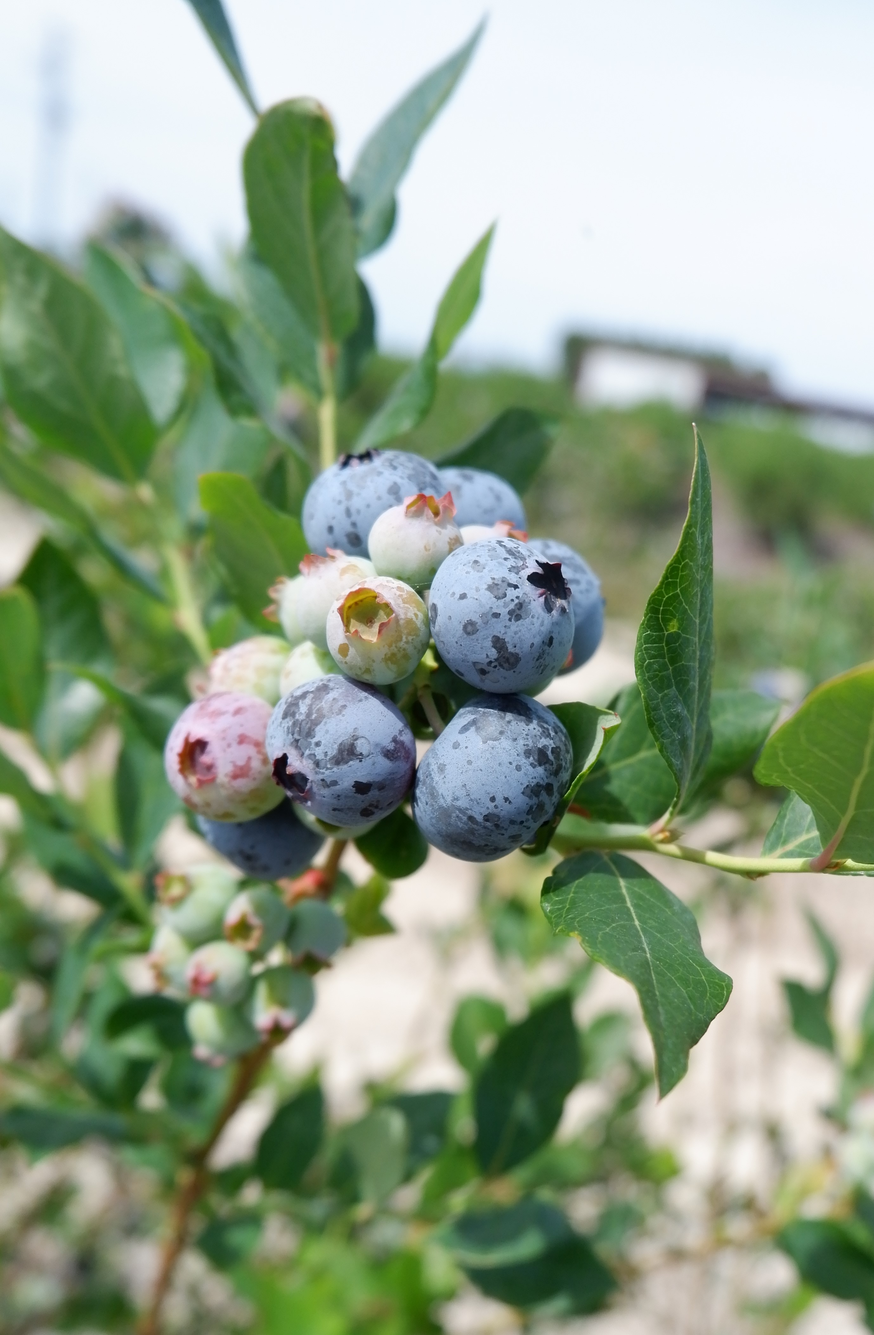Immature: (166, 692, 277, 821), (329, 578, 427, 684), (370, 496, 457, 585), (156, 864, 238, 947), (198, 637, 286, 703), (265, 569, 336, 645), (223, 885, 289, 952), (187, 1001, 255, 1066), (247, 967, 313, 1033), (185, 942, 249, 1008), (285, 902, 344, 969), (281, 643, 351, 698), (301, 549, 379, 594), (148, 925, 190, 992), (296, 808, 368, 835), (459, 522, 527, 547)
Mature: (415, 698, 571, 858), (272, 676, 412, 828), (431, 540, 571, 690), (305, 451, 447, 561), (196, 802, 321, 882), (532, 541, 604, 665), (441, 468, 529, 530)
